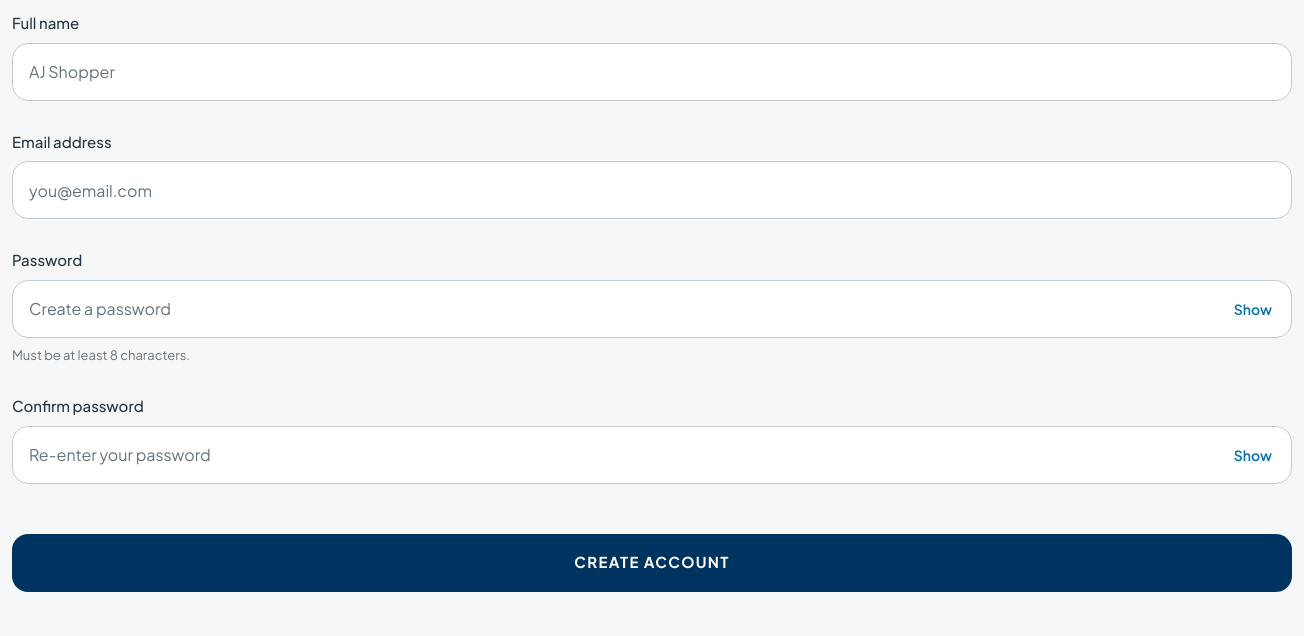
SignupForm — fields and validation › clears a field error as soon as the visitor edits it
The width and height of the screenshot is (1304, 636).
Step 1. Type "nope" into the field labelled "Email address" → (652, 190), box [12,161,1292,219]
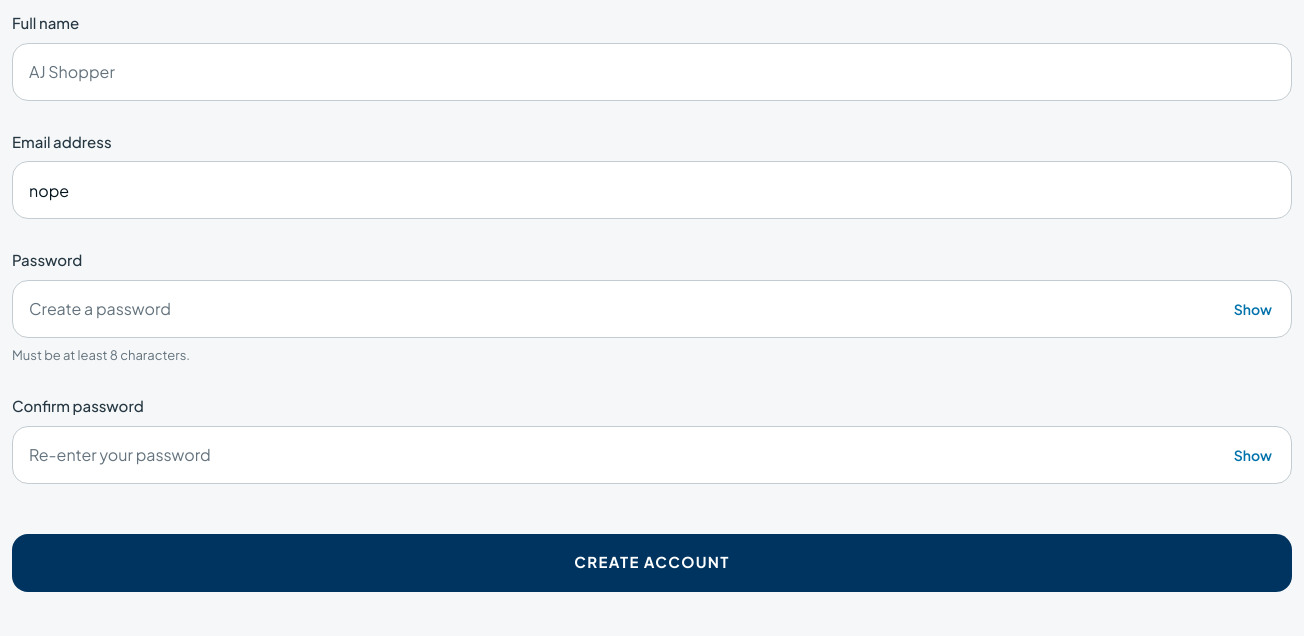
Step 2. Leave the field labelled "Email address", box [12,161,1292,219]
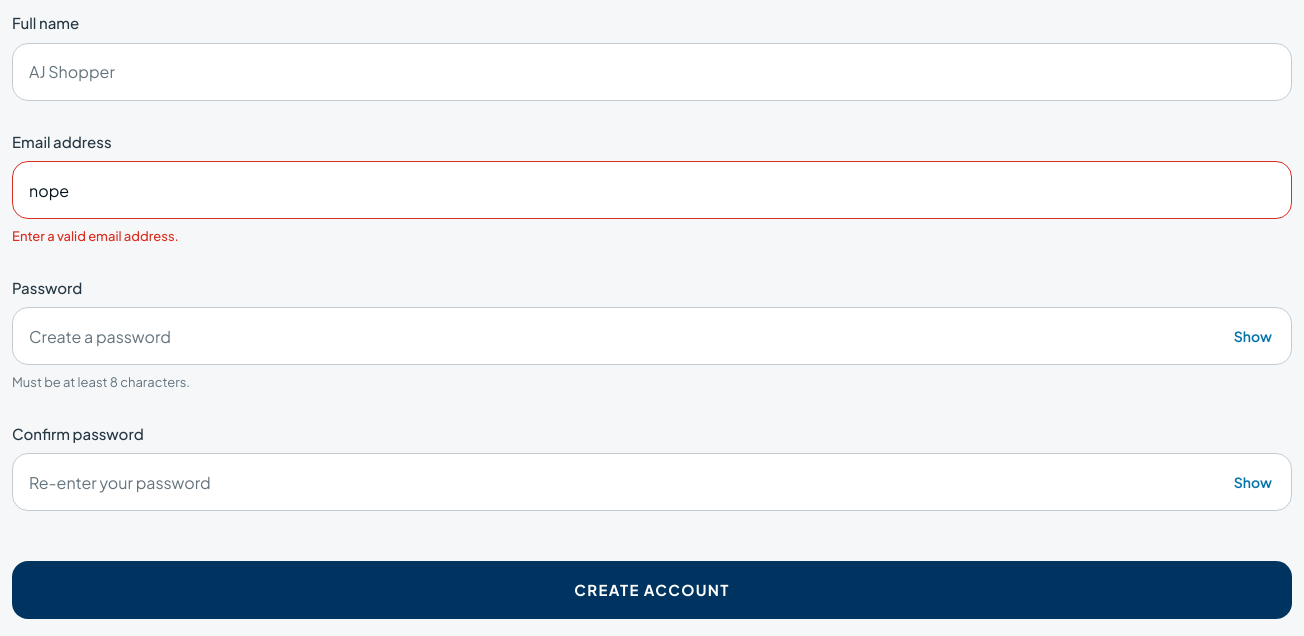
Expected: the text "Enter a valid email address." is shown, [12,228,179,244]
Step 3. Replace the text in the field labelled "Email address" with "newcomer@example.com" → (652, 190), box [12,161,1292,219]
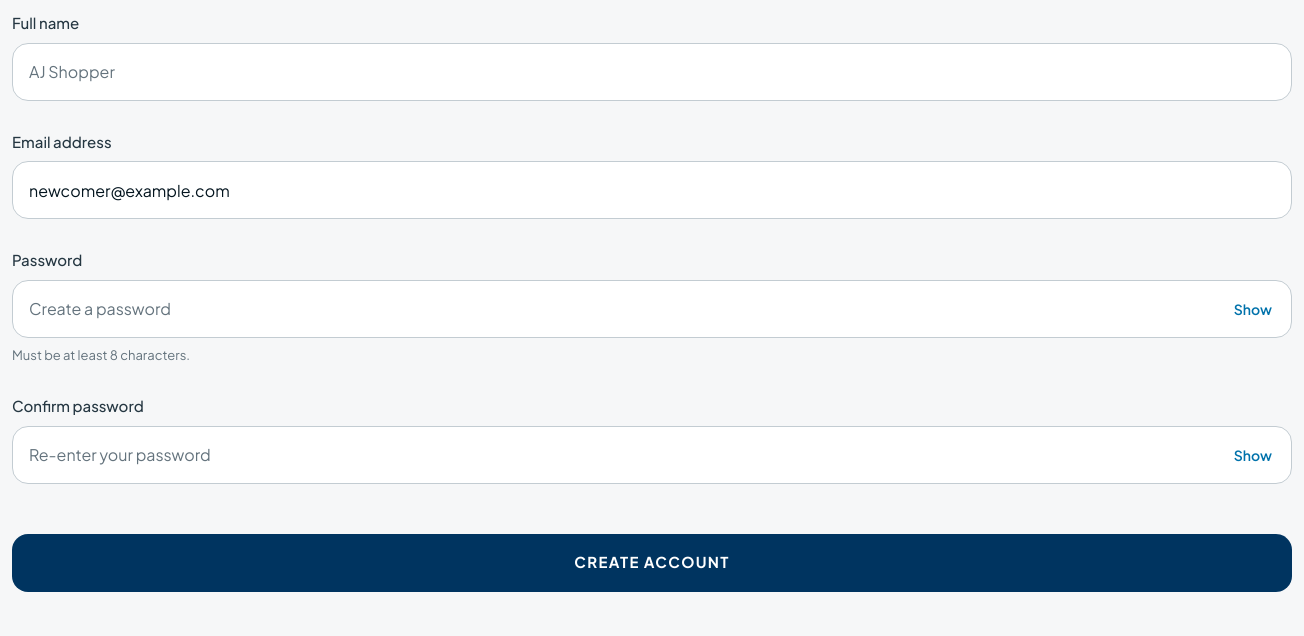
Expected: the text "valid email address" is gone
